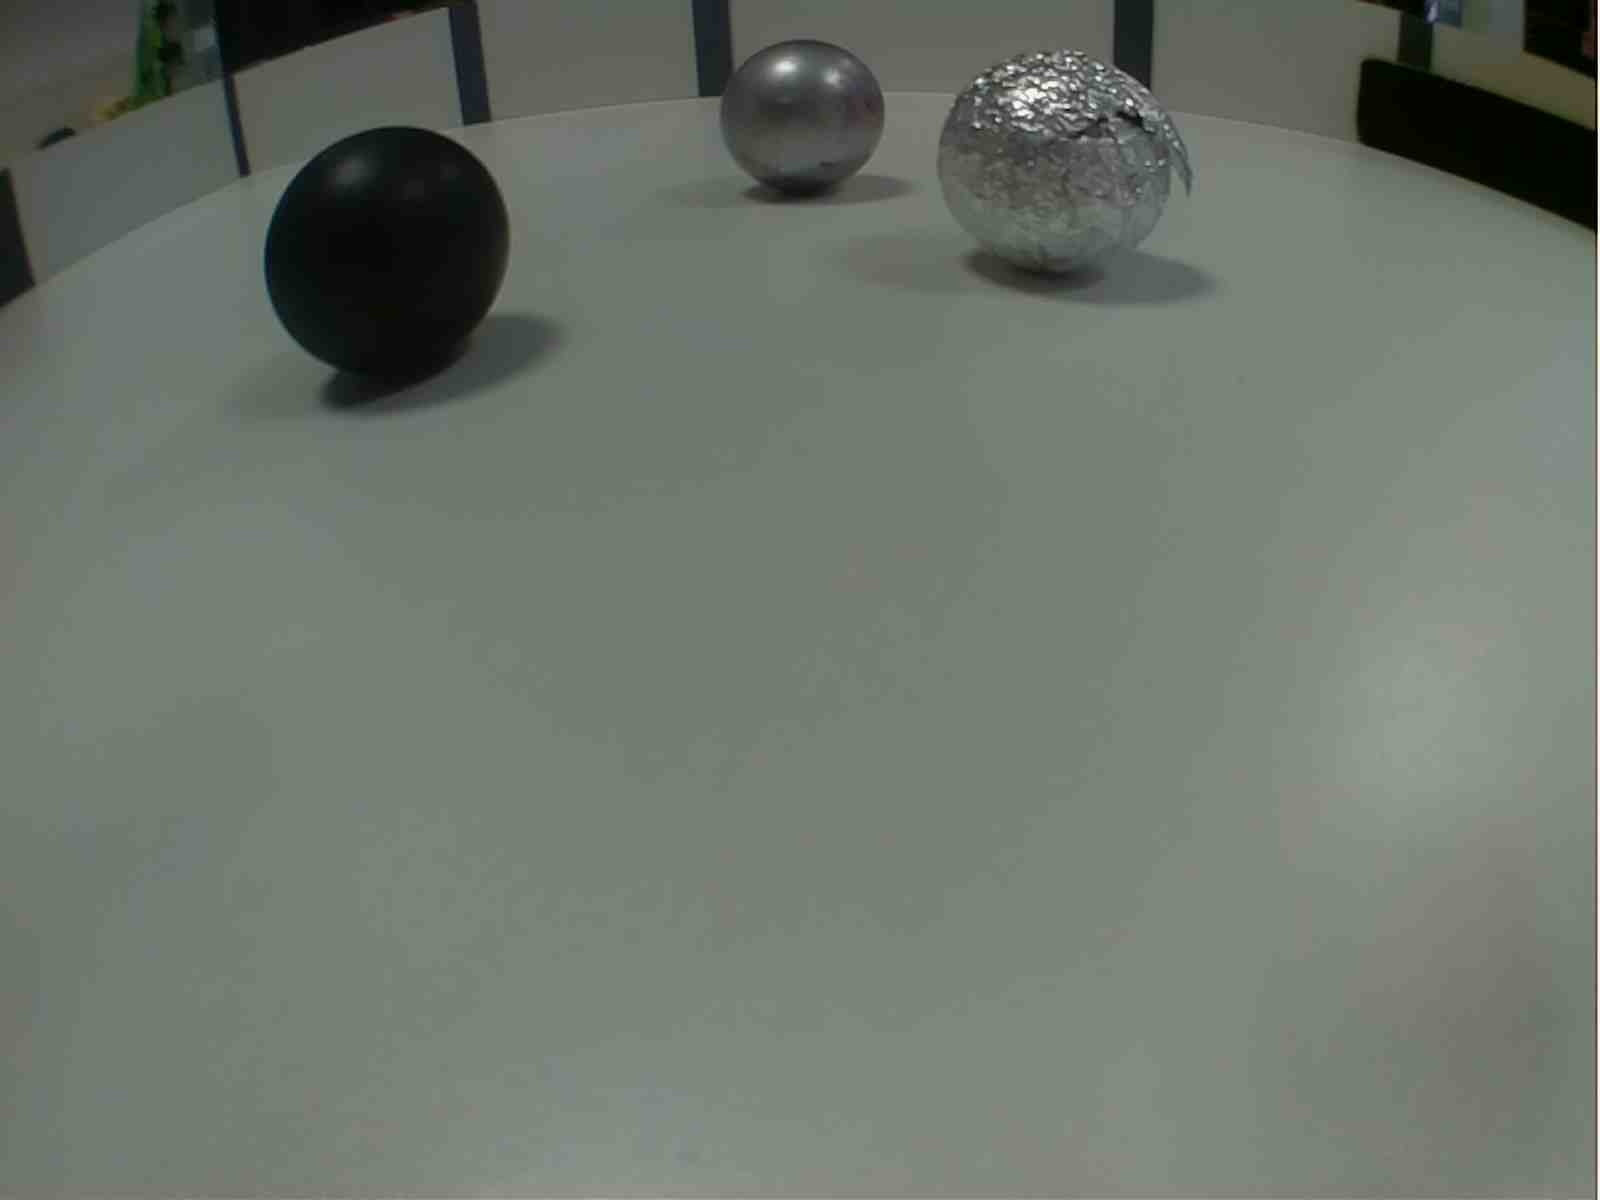bianca: (939, 45, 1193, 299), (721, 32, 891, 202)
nera: (253, 120, 515, 382)
